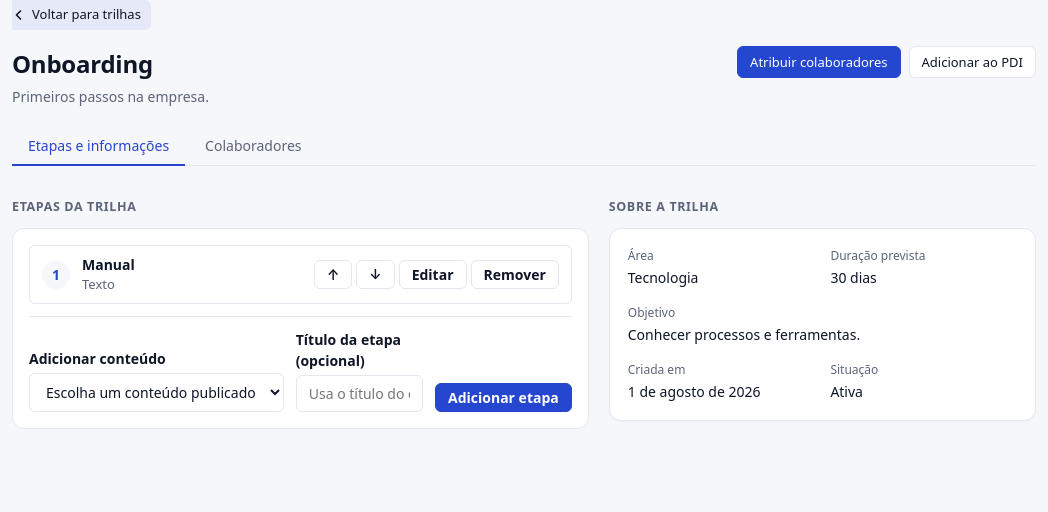
Test: TrilhaDetalhePage — etapas (issue #39) › gestor adiciona uma etapa escolhendo um conteúdo publicado
Click the tab "Etapas e informações".
click(99, 146)  # box [12,126,185,166]
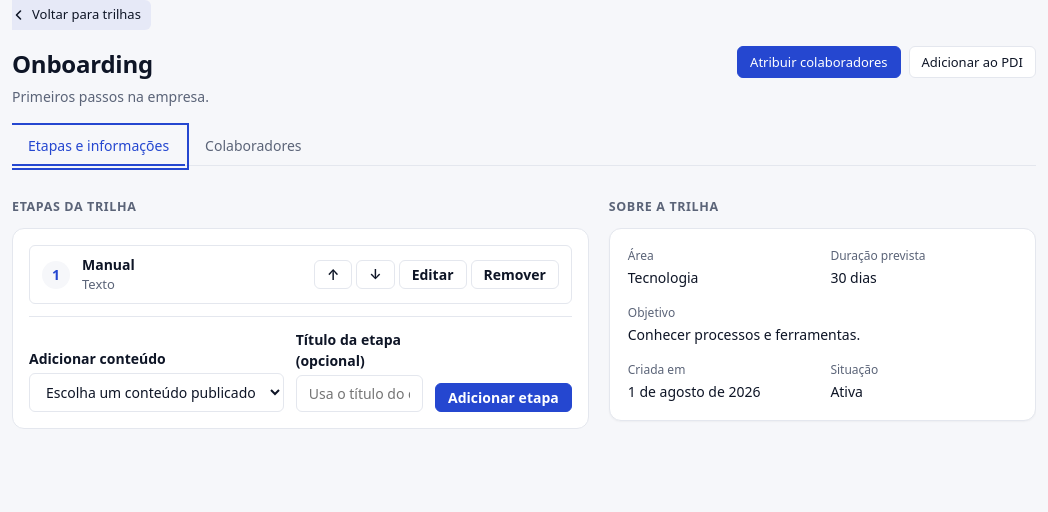
Expected: the text "Manual" is shown, [82,255,135,274]
Select "Vídeo novo (Vídeo)" in the dropdown labelled "Adicionar conteúdo" at [156, 392], box [29,373,284,412]
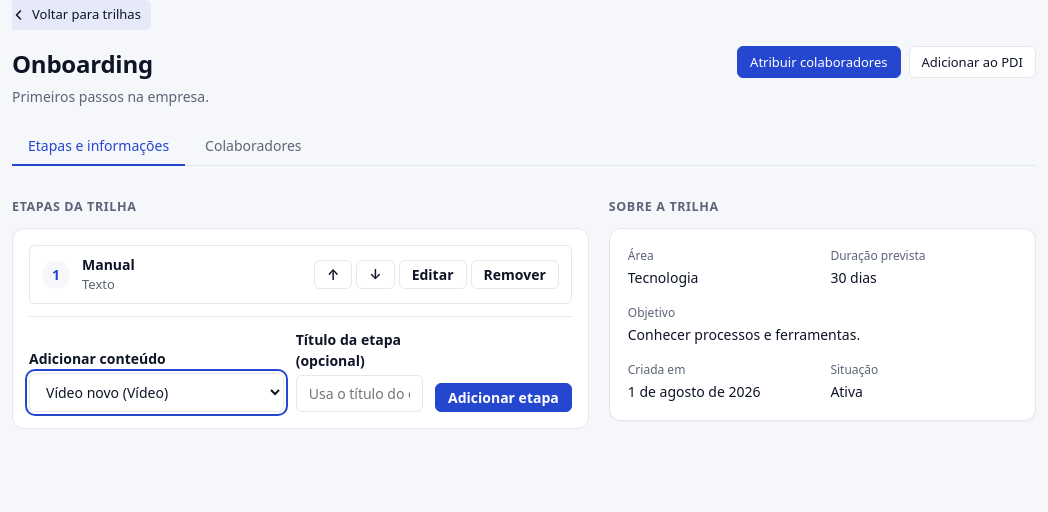
Click the button "Adicionar etapa".
click(503, 397)  # box [435,383,572,412]
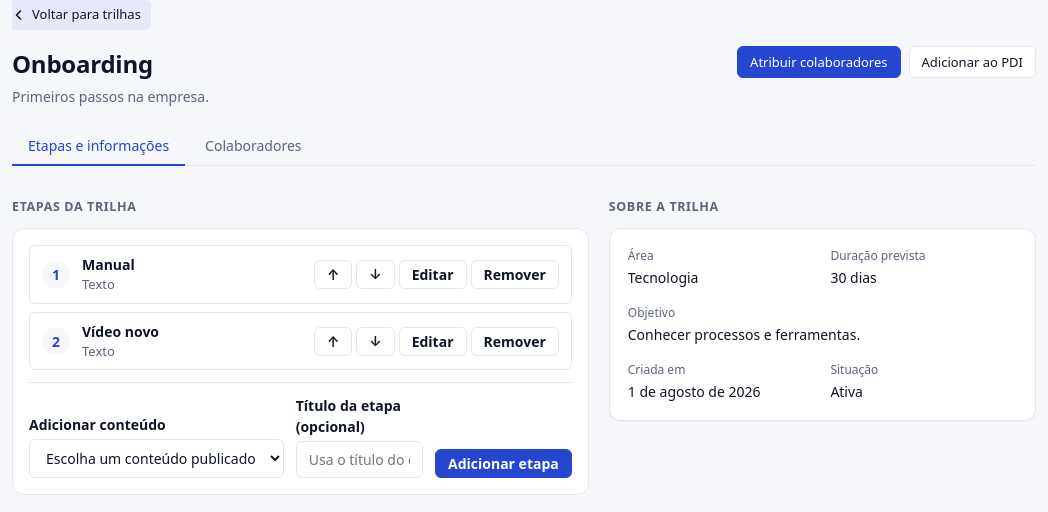
Result: the text "Vídeo novo" is shown at [82,322,159,341]
